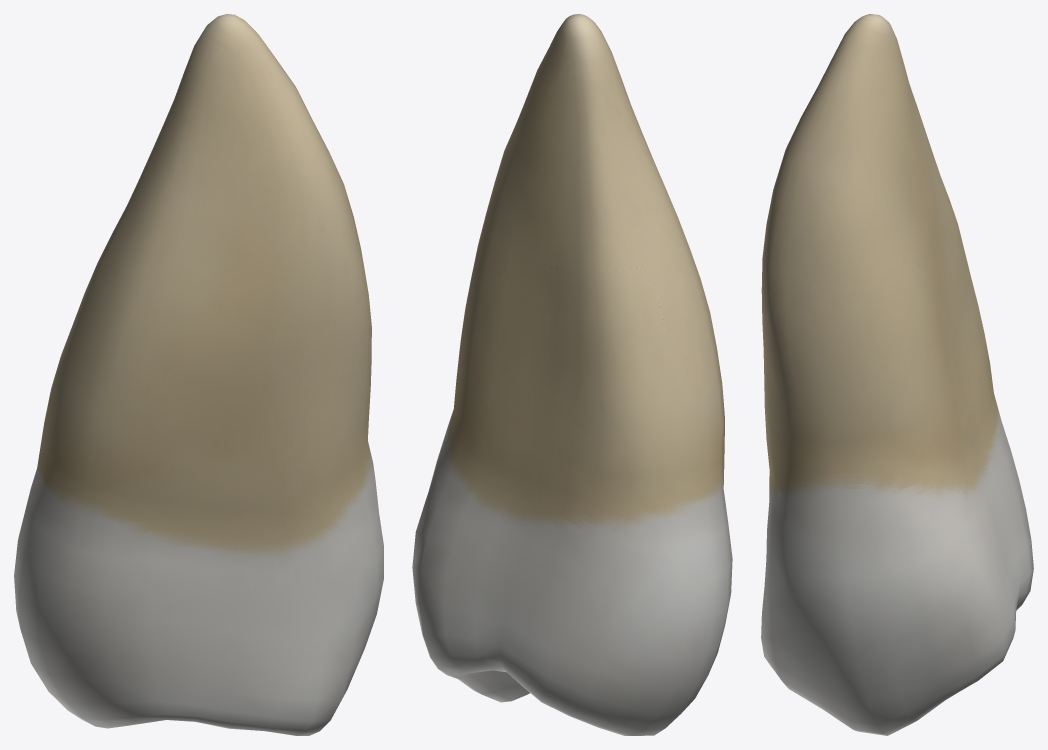
Rendered from tooth-25.glb.
The picture shows the model from 3 angles, left to right: view 1: azimuth 30°, elevation 25°; view 2: azimuth 150°, elevation 25°; view 3: azimuth 270°, elevation 25°; orthographic projection. The views are drawn at different scales.
Visible parts, largest first — view 1: ZBrushPolyMesh3D4_blinn17_0; view 2: ZBrushPolyMesh3D4_blinn17_0; view 3: ZBrushPolyMesh3D4_blinn17_0.
Part boxes in pixels (x1,y1,x2,y2): ZBrushPolyMesh3D4_blinn17_0: (14, 14, 383, 735); ZBrushPolyMesh3D4_blinn17_0: (412, 14, 732, 735); ZBrushPolyMesh3D4_blinn17_0: (761, 14, 1033, 735).
Size of the model in its own units: 0.3028 by 0.6673 by 0.2414.
1 material, 1 textured.
